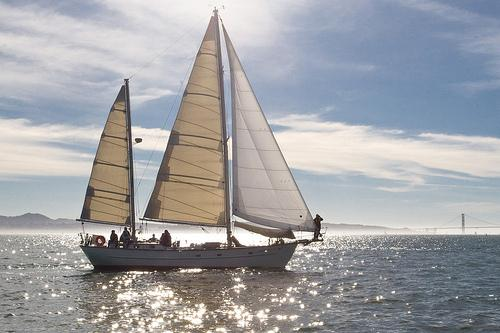Ship: (75, 10, 325, 270)
